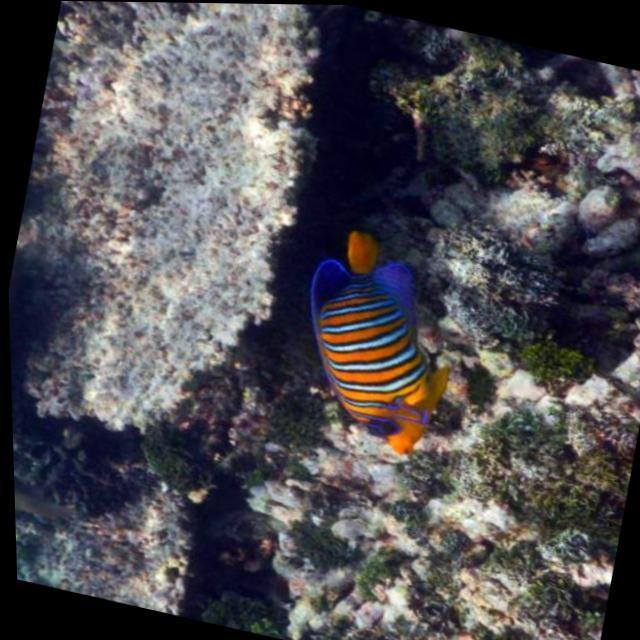Dead Coral: (0, 0, 364, 474)
